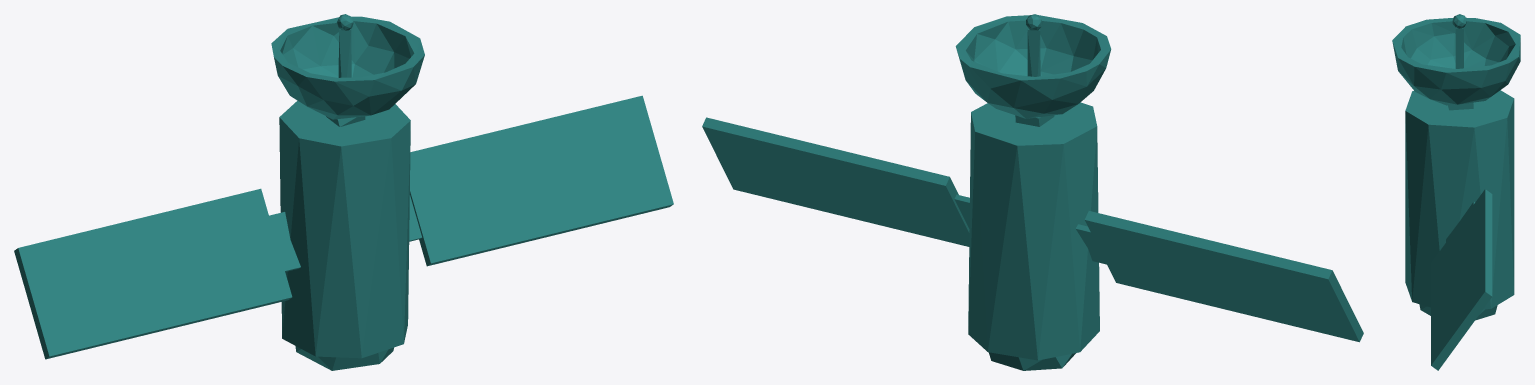
File: sattelite.fbx
3 renders of one model, left to right at view 1: azimuth 30°, elevation 25°; view 2: azimuth 150°, elevation 25°; view 3: azimuth 270°, elevation 25°, orthographic. The views are drawn at different scales.
Visible parts, largest first — view 1: Cube.218; view 2: Cube.218; view 3: Cube.218.
Part boxes in pixels (x1=…): Cube.218: x1=14, y1=14, x2=673, y2=370; Cube.218: x1=702, y1=14, x2=1363, y2=370; Cube.218: x1=1392, y1=14, x2=1520, y2=370.
Bounding box in the file's own units: 1381 × 708 × 285.
